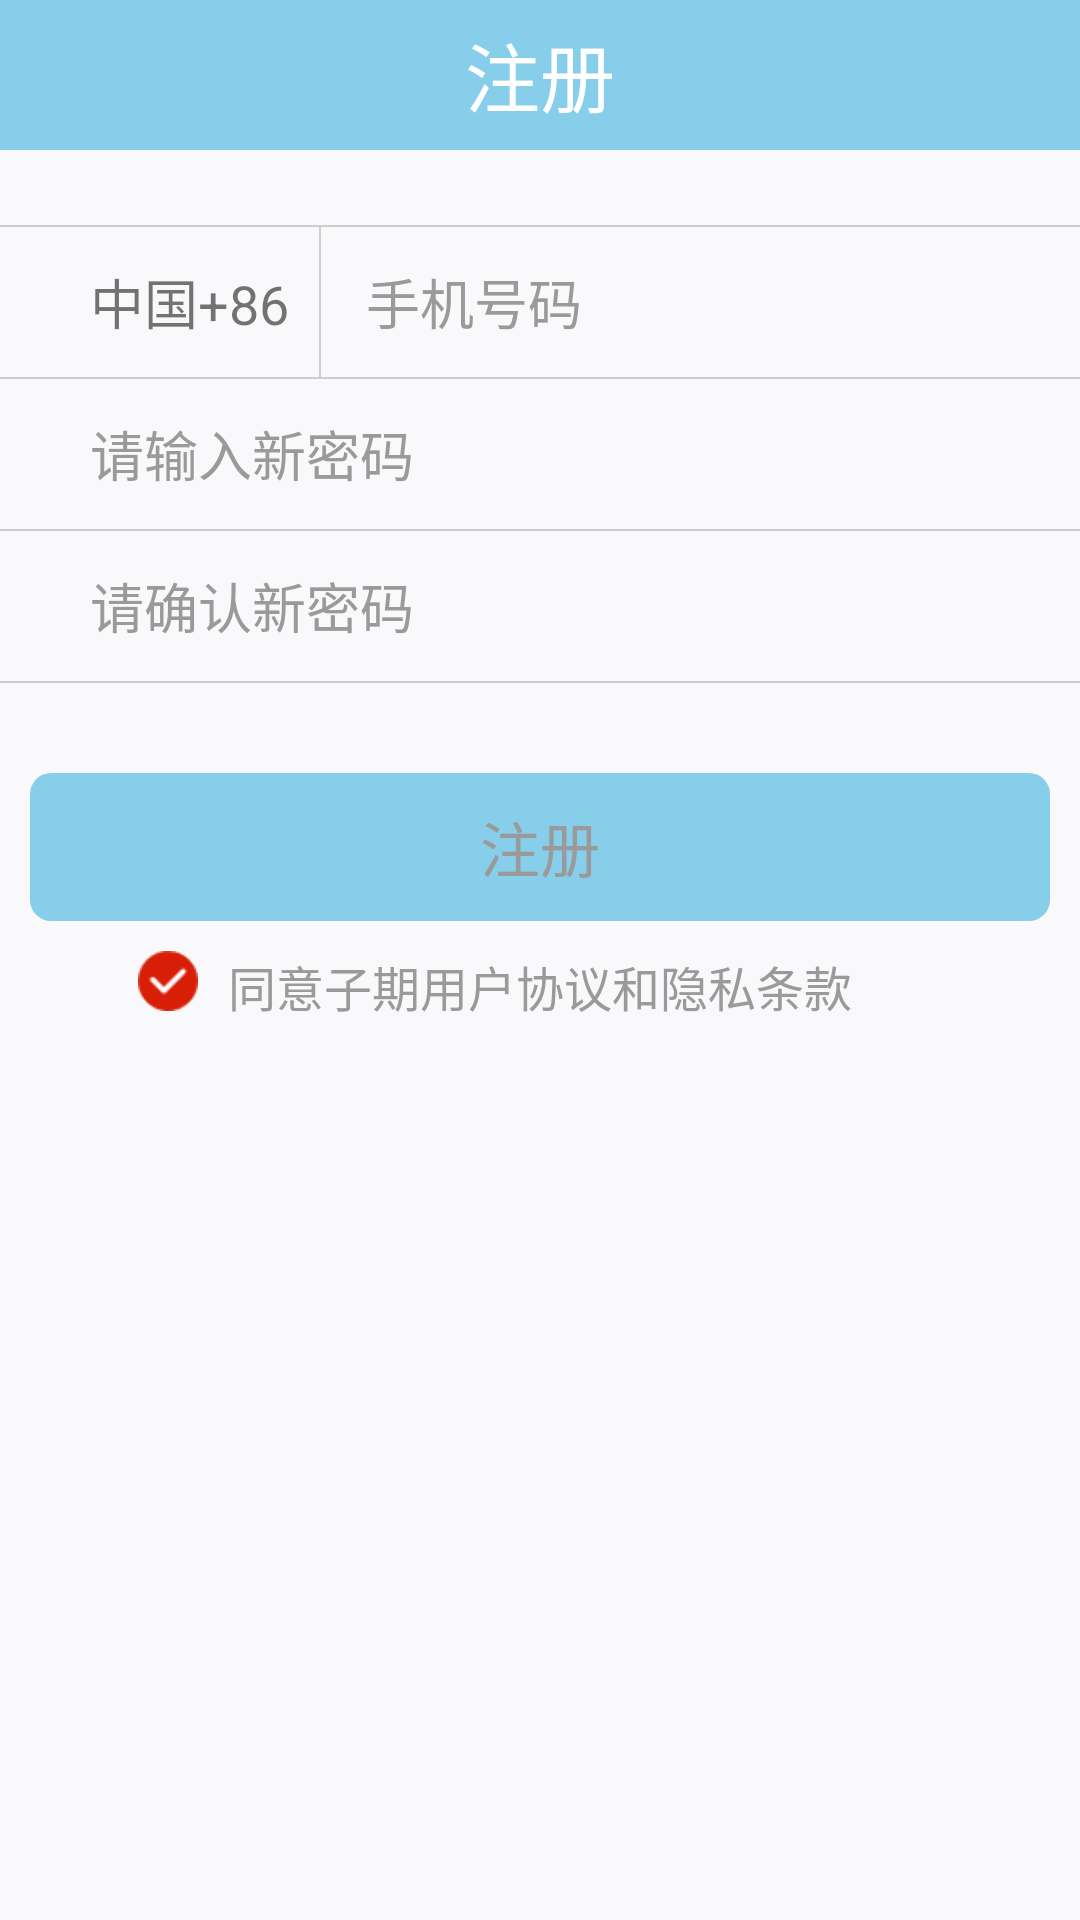

Point at icon controls on the screen. Image size 1080w x 1920h, points as (x=x, y=y).
checkbox: (x=168, y=981)
